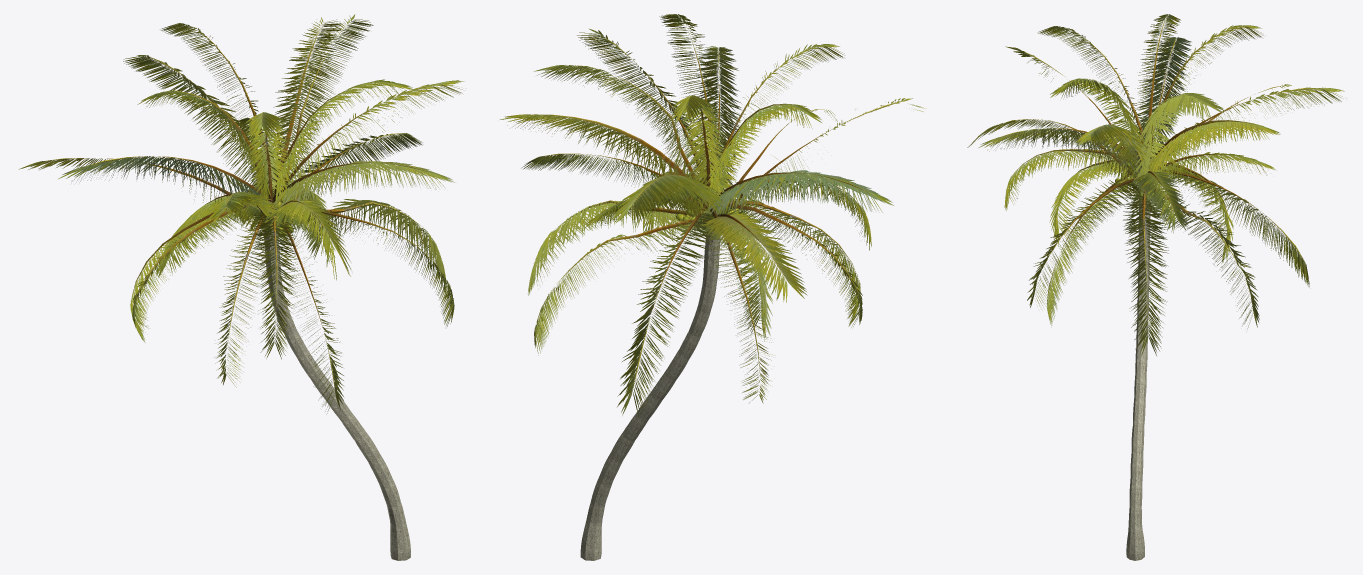
The model's file is sweethome3d-scopia-bended-coconut-tree.glb.
3 renders of one model, left to right at view 1: azimuth 30°, elevation 25°; view 2: azimuth 150°, elevation 25°; view 3: azimuth 270°, elevation 25°, orthographic. The views are drawn at different scales.
Visible parts, largest first — view 1: Leaves-Mesh, Trunk; view 2: Leaves-Mesh, Trunk; view 3: Leaves-Mesh, Trunk.
Boxes of the visible parts, left/top/right/bottom form: Leaves-Mesh: left=19, top=14, right=464, bottom=414; Trunk: left=263, top=201, right=410, bottom=560; Leaves-Mesh: left=500, top=14, right=924, bottom=418; Trunk: left=580, top=221, right=720, bottom=560; Leaves-Mesh: left=967, top=14, right=1344, bottom=355; Trunk: left=1126, top=198, right=1150, bottom=560.
Size of the model in its own units: 729 by 1000 by 751.
Materials: 3 (3 with a texture image).
